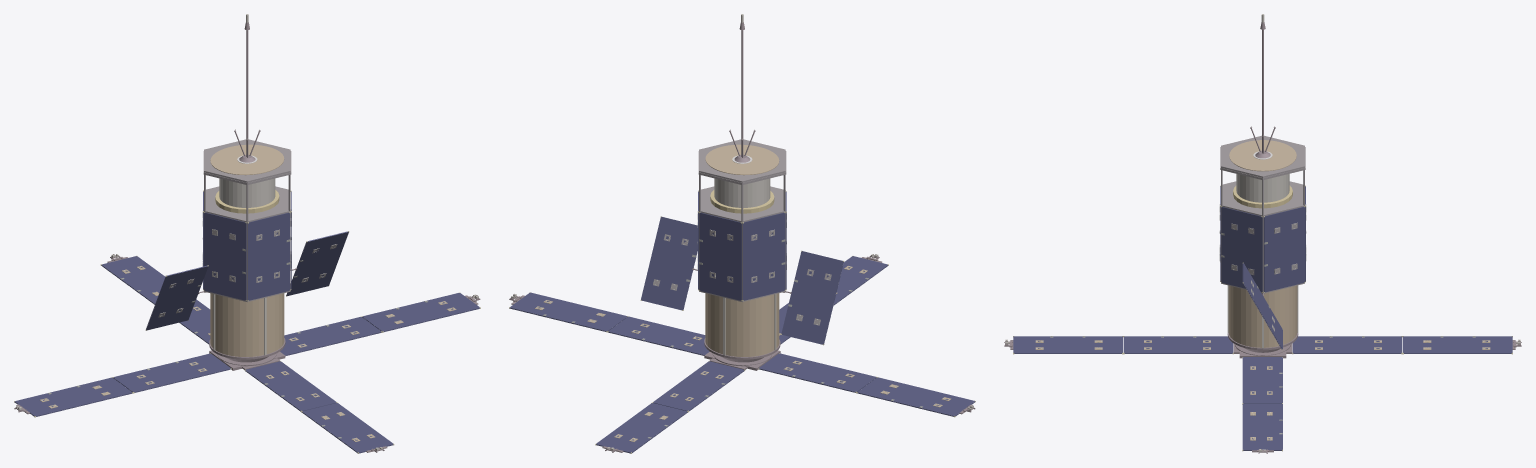
File: tselina-2.glb
3 views of the same model, side by side, from view 1: azimuth 30°, elevation 25°; view 2: azimuth 150°, elevation 25°; view 3: azimuth 270°, elevation 25° (orthographic). The views are drawn at different scales.
Visible parts, largest first — view 1: Layer_0; view 2: Layer_0; view 3: Layer_0.
Boxes of the visible parts, left/top/right/bottom form: Layer_0: left=14, top=14, right=480, bottom=453; Layer_0: left=509, top=14, right=975, bottom=453; Layer_0: left=1004, top=14, right=1521, bottom=453.
Bounding box in the file's own units: 46.78 × 33.4 × 46.78.
Materials: 2 (2 with a texture image).
